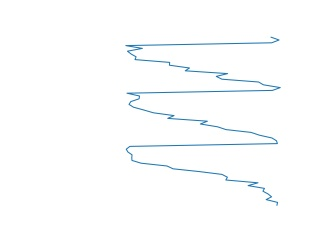distributaryMouthBar: (122, 34, 290, 207)
